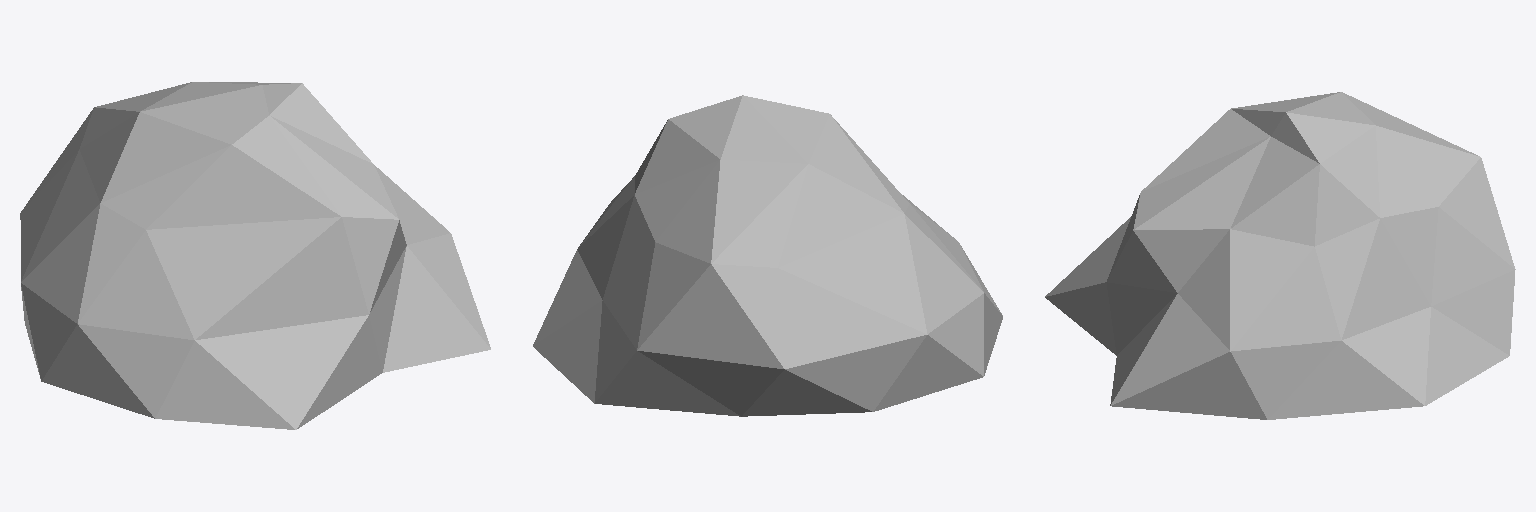
URDF robot description (mediumrock):
<?xml version="1.0" ?>
<robot name="mediumrock">
  <link name="baseLink">

    <visual>
      <origin rpy="0 0 0" xyz="0 0 0.0"/> 
      <geometry>
        <mesh filename="mediumrock.obj" scale="1 1 1"/>
      </geometry>
      <material name="gray">
        <color rgba="0.753 0.753 0.753 1.0"/>
      </material>
    </visual>
    
    <collision>
      <origin rpy="0 0 0" xyz="0 0 0.0"/> 
      <geometry>
        <mesh filename="mediumrock.obj" scale="1 1 1"/>
        
        </geometry>
    </collision>

    <inertial>
      <mass value="0.0"/> <origin rpy="0 0 0" xyz="0 0 0.0"/>
      <inertia ixx="0" ixy="0" ixz="0" iyy="0" iyz="0" izz="0"/>
    </inertial>
  </link>
</robot>

--- Facts derived from the render (not from the file) ---
The picture shows the robot from 3 angles, left to right: view 1: azimuth 30°, elevation 25°; view 2: azimuth 150°, elevation 25°; view 3: azimuth 270°, elevation 25°; orthographic projection.
Model mediumrock with 1 links and 0 joints (none), rooted at baseLink, posed all joints at 0.
Visible links, largest first — view 1: baseLink; view 2: baseLink; view 3: baseLink.
Boxes of the visible links, x1,y1,x2,y2 form: baseLink: (20, 82, 490, 429); baseLink: (533, 95, 1002, 416); baseLink: (1045, 92, 1515, 419).
Size in the robot's own frame: 2.45 by 2.57 by 1.37 metres.
1 mesh visuals loaded from 1 distinct referenced files (1 OBJ).
